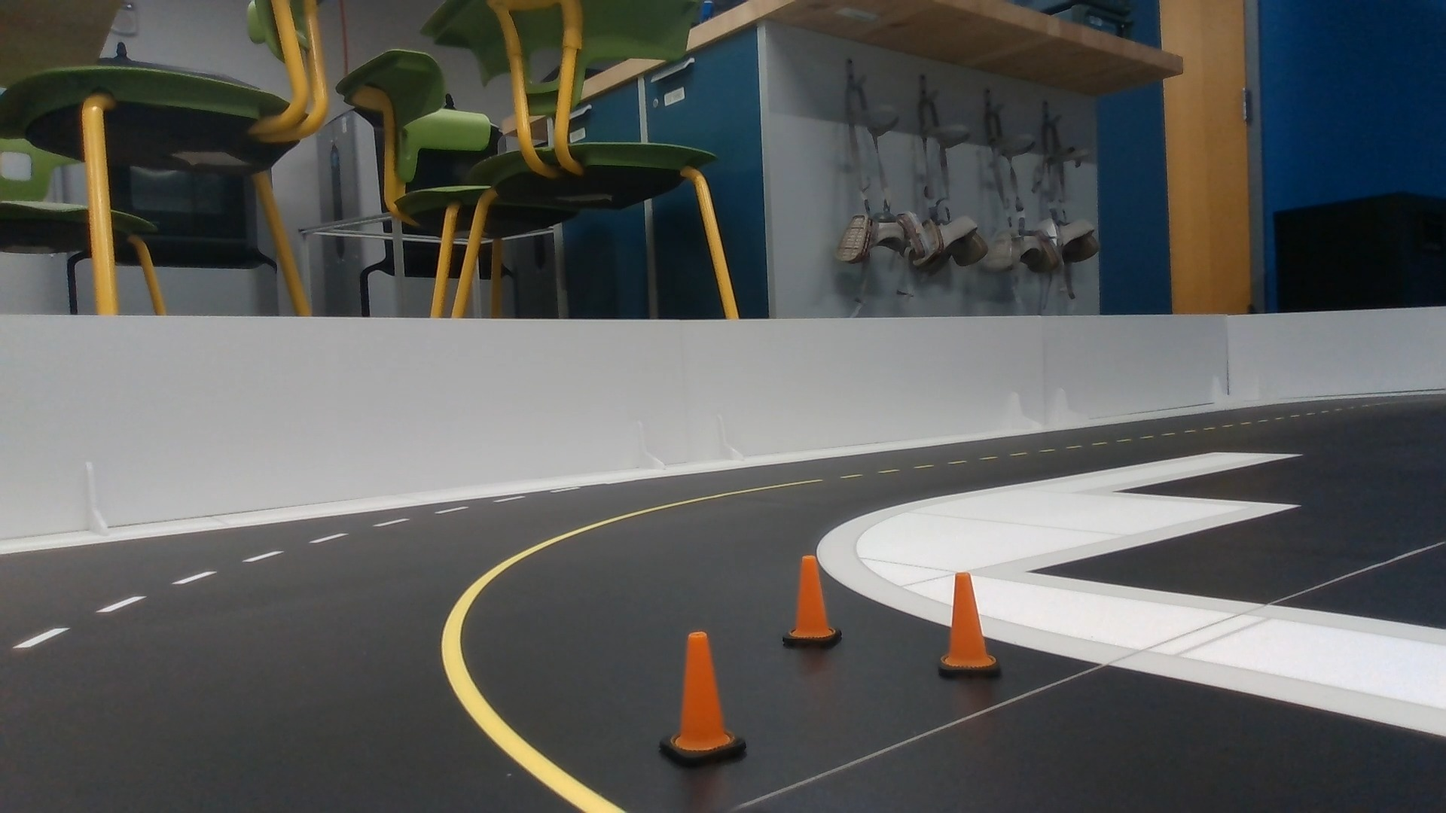Traffic Cone: (660, 632, 745, 766), (939, 573, 999, 677), (782, 556, 841, 647)
